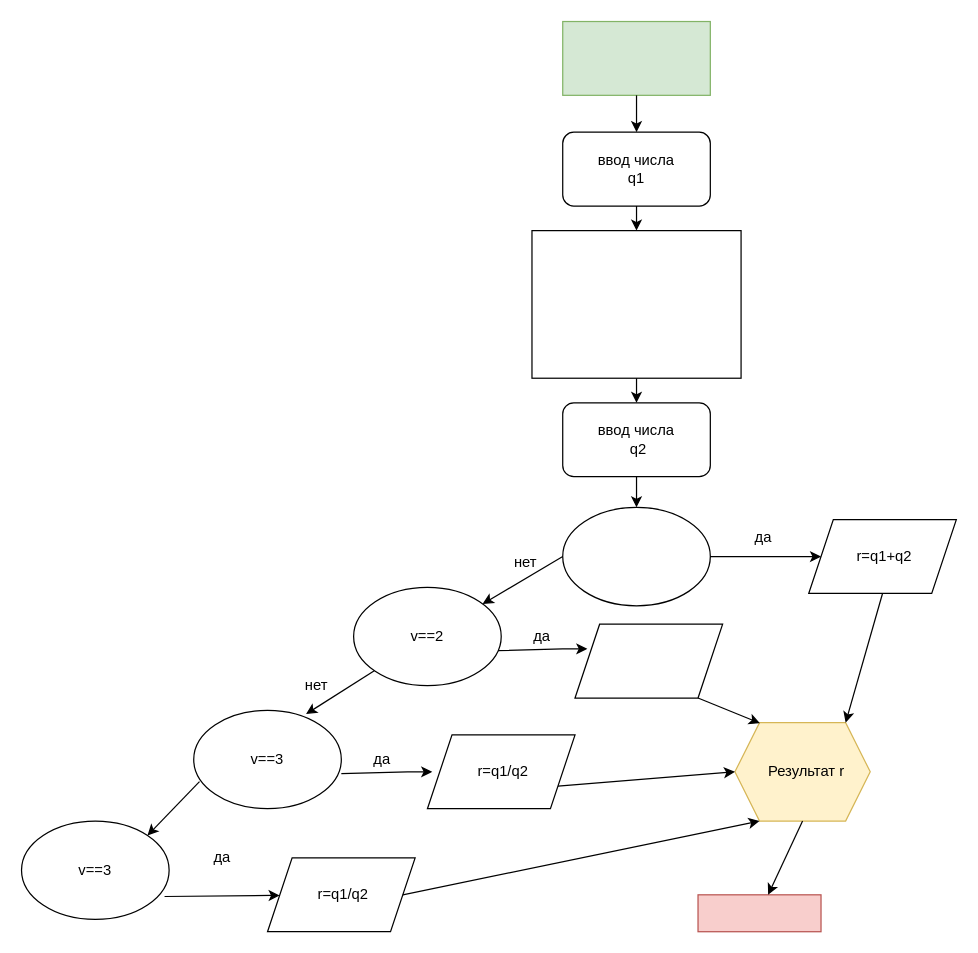
This 978x953 diagram has some shape labels left out. Each missing label, with the centre of its shape:
"r=q1-q2" goes at point (648, 660).
"start Калькулятор запущен" goes at point (635, 57).
"stop" goes at point (759, 913).
"v==1" goes at point (635, 556).
"Выбор номера операции v: 1: + 2: - 3: / 4: *" goes at point (636, 303).
